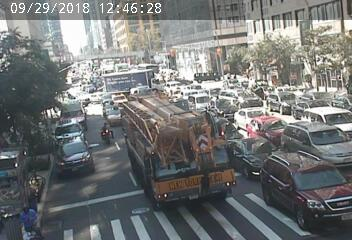car: (146, 117, 230, 195), (286, 159, 325, 198), (299, 126, 335, 159), (102, 74, 152, 87), (238, 138, 266, 161), (255, 115, 285, 136), (60, 146, 85, 168), (184, 92, 206, 107), (223, 90, 253, 100), (316, 109, 337, 122), (58, 127, 79, 139), (274, 90, 288, 107), (234, 111, 255, 121), (297, 101, 316, 112), (64, 102, 80, 115), (109, 109, 121, 123), (112, 98, 127, 106), (168, 89, 179, 98), (167, 83, 177, 86)
